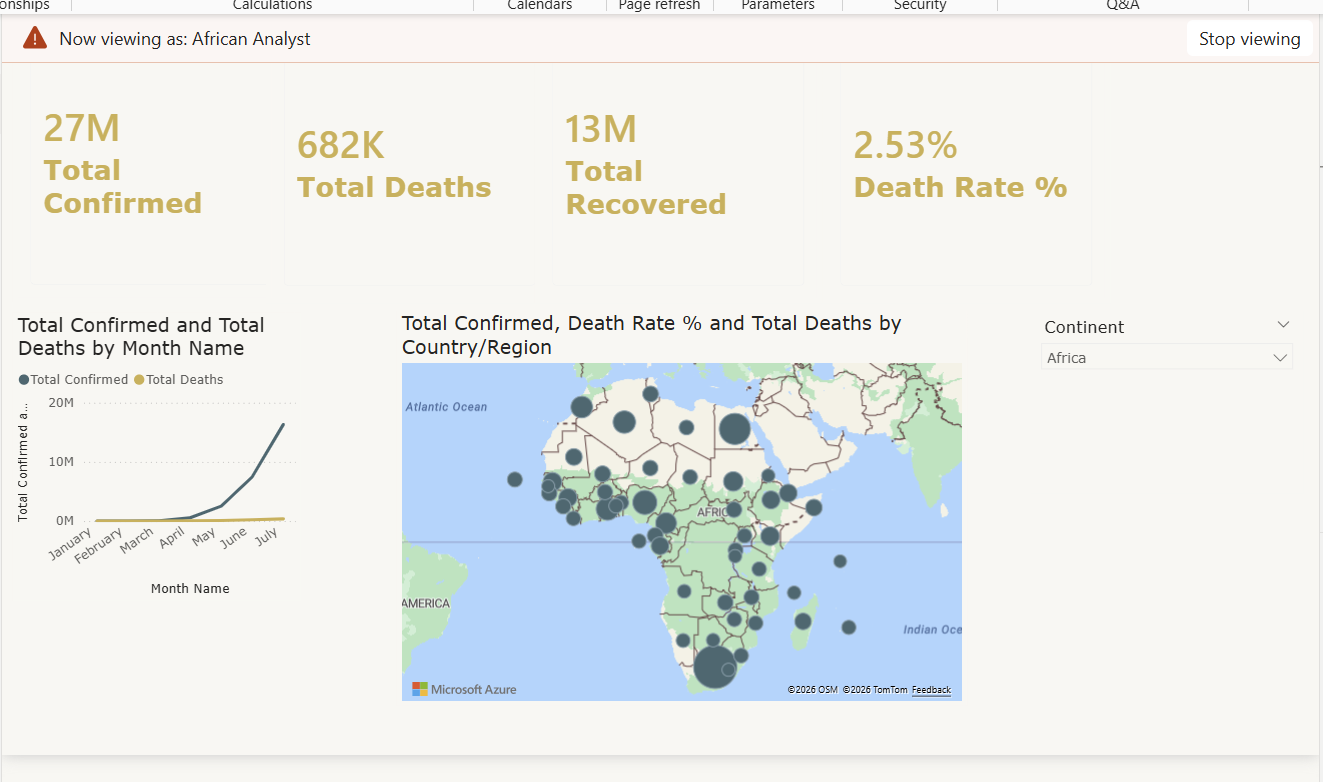

What the dashboard file says about the page in this screenshot:
{"tool":"powerbi","page":{"name":"Global Overview","canvas":[1280,720],"ordinal":0},"visuals":[{"type":"cardVisual","fields":{"Data":["Table.Total Confirmed"]},"box":[10,0,280,280],"z":0},{"type":"cardVisual","fields":{"Data":["Table.Total Deaths"]},"box":[257,0,279.7,281.6],"z":1000},{"type":"cardVisual","fields":{"Data":["Table.Total Recovered"]},"box":[517.8,0,279.7,281.6],"z":2000},{"type":"cardVisual","fields":{"Data":["Table.Death Rate %"]},"box":[797.5,0,279.7,281.6],"z":3000},{"type":"lineChart","fields":{"Category":["Date.Month Name"],"Y":["Table.Total Confirmed","Table.Total Deaths"]},"box":[10,290,280,280],"z":4000},{"type":"slicer","fields":{"Values":["Countries.Continent"]},"box":[999.7,289.1,264.6,177.6],"z":5000},{"type":"azureMap","fields":{"Category":["Countries.Country/Region"],"Size":["Table.Total Confirmed"]},"box":[383.6,289.1,553.7,383.6],"z":6000}]}

Visuals, with their boxes on the page's 1280x720 design canvas (x1, y1, x2, y2). These are canvas units, not pixel positions in the 1323x782 screenshot, which may show the page scaled, cropped or inside an application window:
cardVisual - Table.Total Confirmed: (left=10, top=0, right=290, bottom=280)
cardVisual - Table.Total Deaths: (left=257, top=0, right=537, bottom=282)
cardVisual - Table.Total Recovered: (left=518, top=0, right=798, bottom=282)
cardVisual - Table.Death Rate %: (left=798, top=0, right=1077, bottom=282)
lineChart - Date.Month Name x Table.Total Confirmed: (left=10, top=290, right=290, bottom=570)
slicer - Countries.Continent: (left=1000, top=289, right=1264, bottom=467)
azureMap - Countries.Country/Region x Table.Total Confirmed: (left=384, top=289, right=937, bottom=673)
